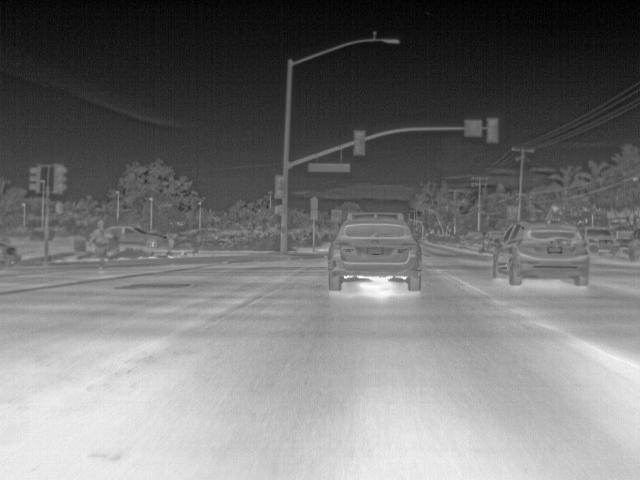car: (328, 211, 423, 291), (495, 220, 590, 286), (116, 224, 172, 249), (581, 226, 619, 254), (627, 227, 640, 261), (616, 229, 632, 249)
person: (86, 218, 115, 274)
